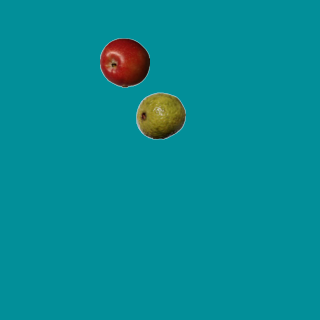Apple Braeburn: (99, 37, 149, 87)
Guava: (135, 90, 185, 140)
